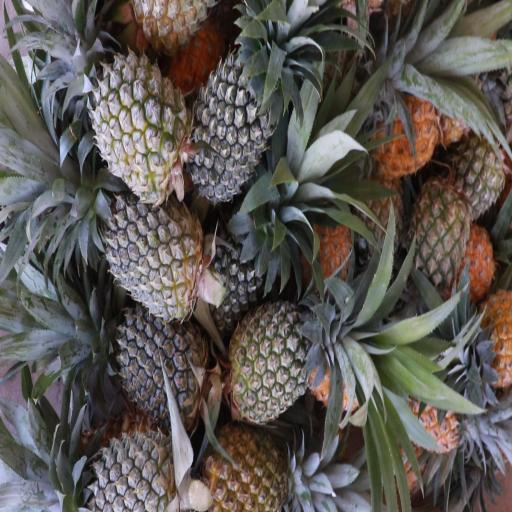------------------------------: (98, 48, 187, 200), (230, 300, 328, 420), (204, 426, 291, 512), (408, 183, 473, 287)
Pineapple - v8 v1: (378, 92, 444, 176), (473, 291, 512, 387)
